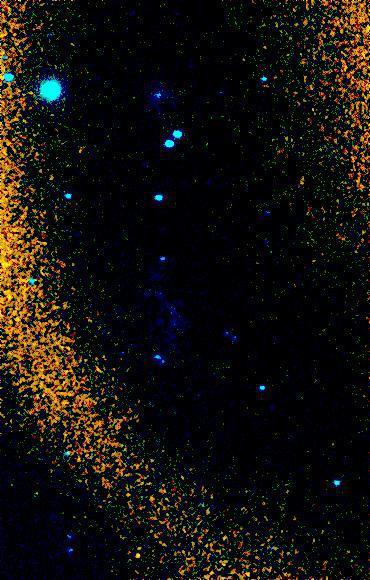star: (124, 541, 154, 571)
